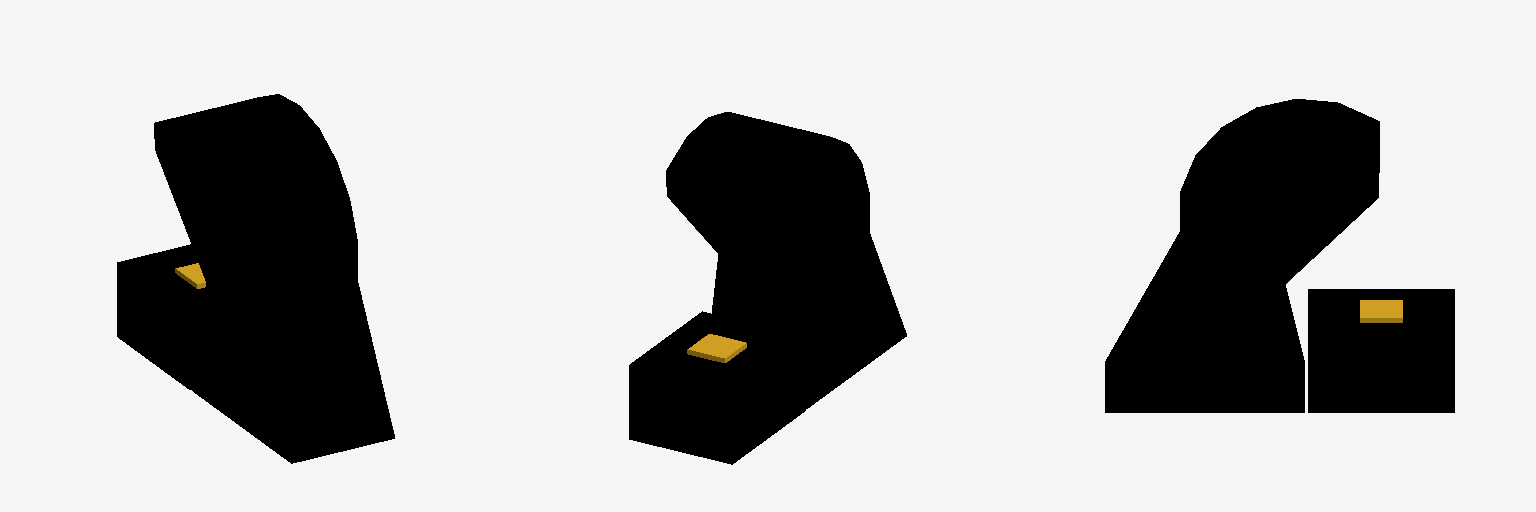
Rendered from light_box.obj.
3 renders of one model, left to right at view 1: azimuth 30°, elevation 25°; view 2: azimuth 150°, elevation 25°; view 3: azimuth 270°, elevation 25°, orthographic.
Parts seen in each view (by area): view 1: Light, Stand; view 2: Light, Stand, Light_Source, Target; view 3: Light, Stand, Target.
Part boxes in pixels (left/top/right/bottom): Light: left=154, top=94, right=394, bottom=463; Stand: left=117, top=244, right=205, bottom=389; Light: left=666, top=112, right=906, bottom=408; Stand: left=629, top=311, right=805, bottom=464; Light_Source: left=667, top=196, right=820, bottom=278; Target: left=687, top=334, right=746, bottom=362; Light: left=1105, top=99, right=1379, bottom=412; Stand: left=1308, top=289, right=1454, bottom=412; Target: left=1360, top=300, right=1402, bottom=322.
Size of the model in its own units: 0.22 by 0.5343 by 0.6419.